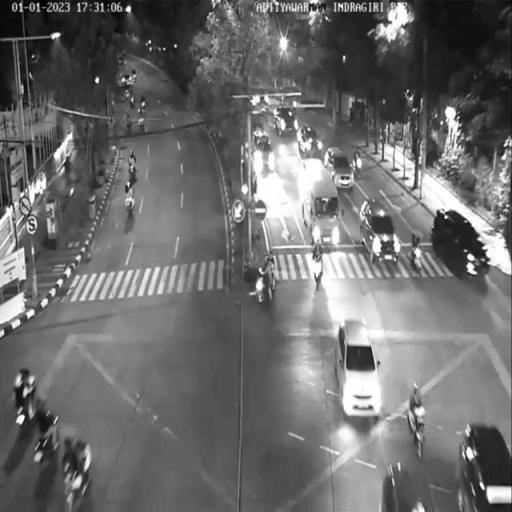car: (337, 319, 383, 420), (431, 204, 484, 286)
motorcycle: (61, 436, 98, 501), (28, 421, 70, 466), (404, 402, 434, 450), (255, 266, 280, 302)
truck: (291, 160, 340, 246)
